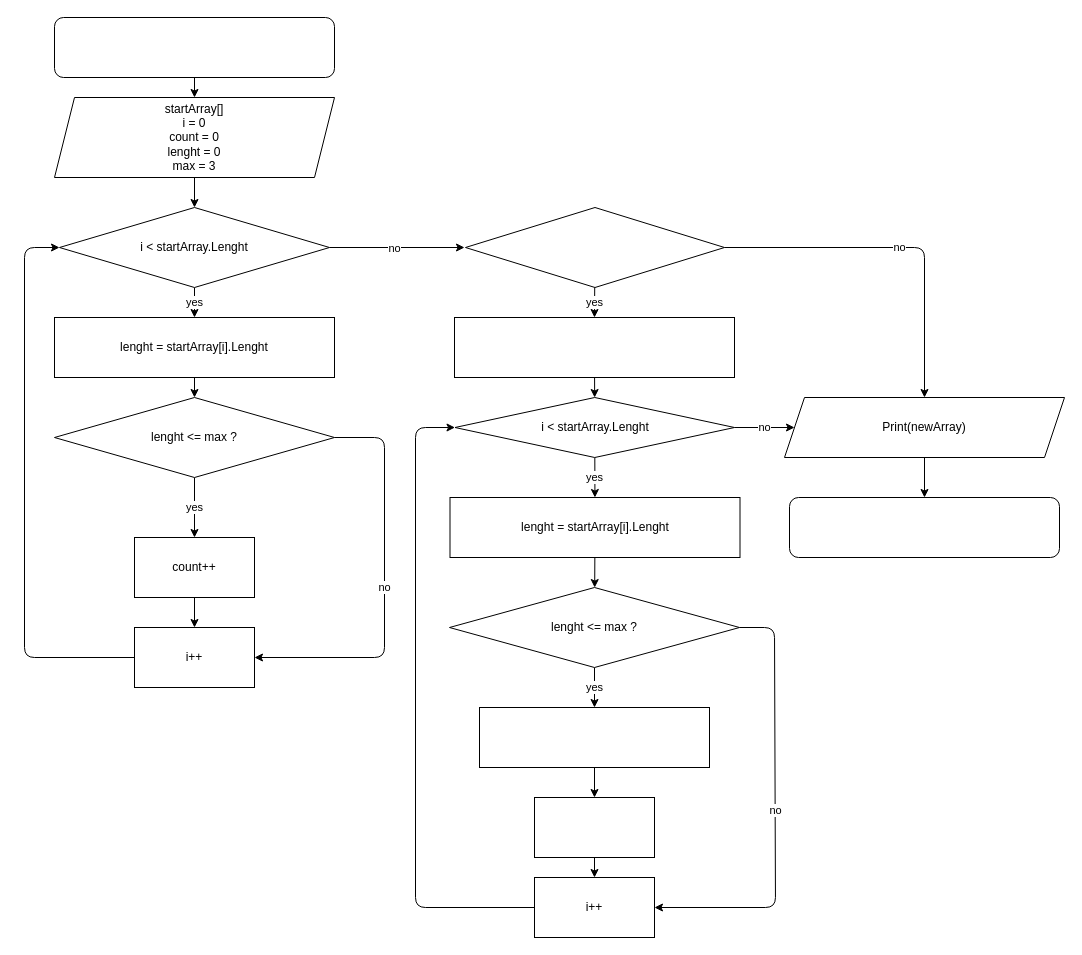
Image size: 1082x955. Some labels were removed from this diagram. Each missing label, with the centre of its shape:
count > 0 ?: point (594, 247)
Finish: point (924, 527)
j++: point (594, 827)
newArray[j] = startArray[i]: point (594, 737)
Start: point (194, 47)
string newArray = new array [count] i = 0 j = 0: point (594, 347)
